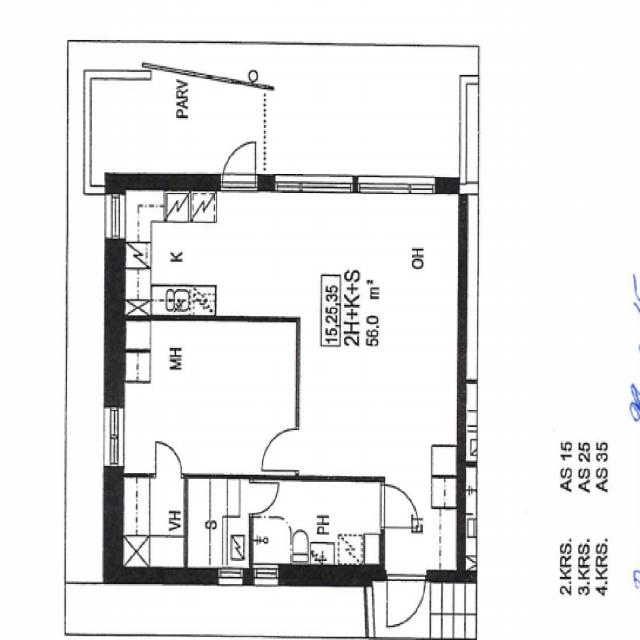door: (387, 570, 425, 629), (222, 133, 256, 191), (261, 431, 300, 472), (381, 486, 419, 527), (155, 444, 181, 482), (249, 483, 279, 514)
